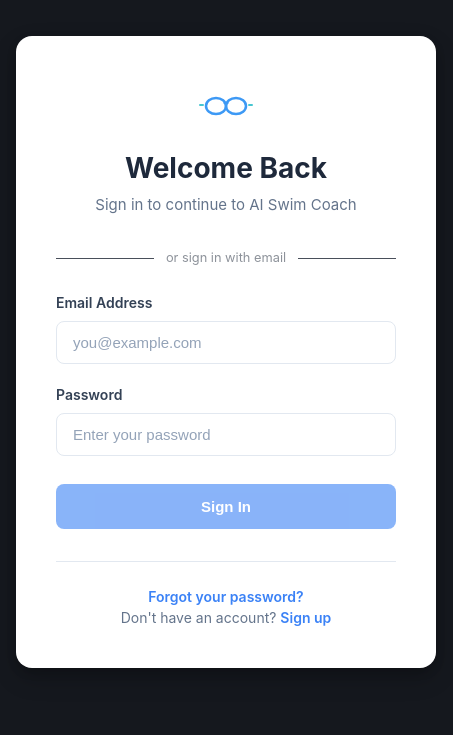
Test: Login Component › displays error message when login fails with 401
In the field labelled "Email Address": (226, 342) [56, 321, 396, 364], type "test@example.com"
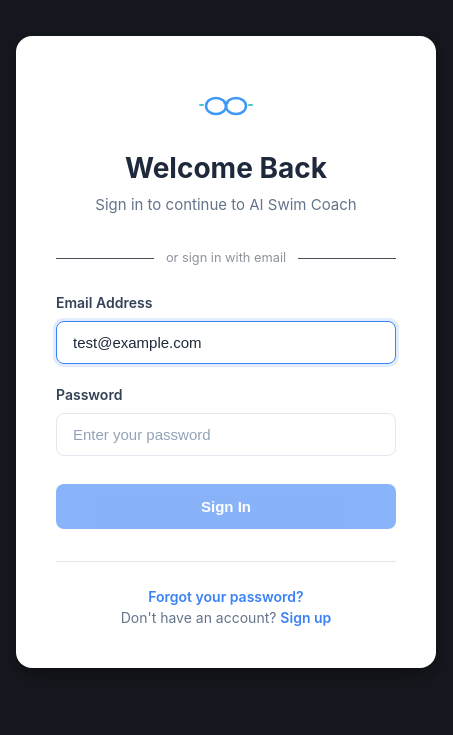
In the password field labelled "Password": (226, 434) [56, 413, 396, 456], type "wrongpassword"
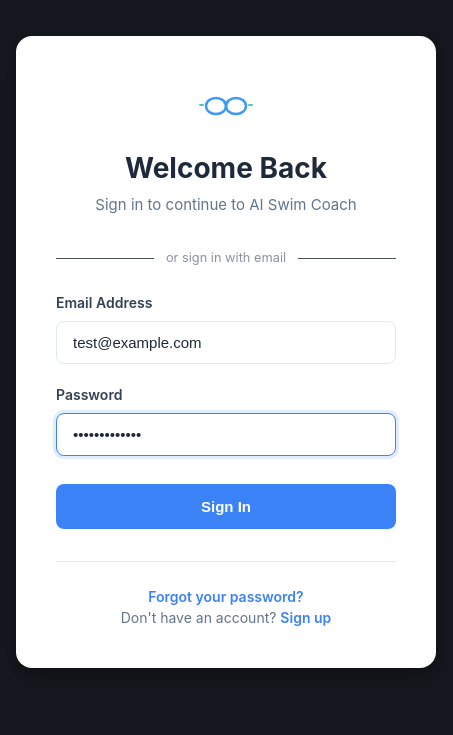
Click the button "Sign In": (226, 506) [56, 484, 396, 529]
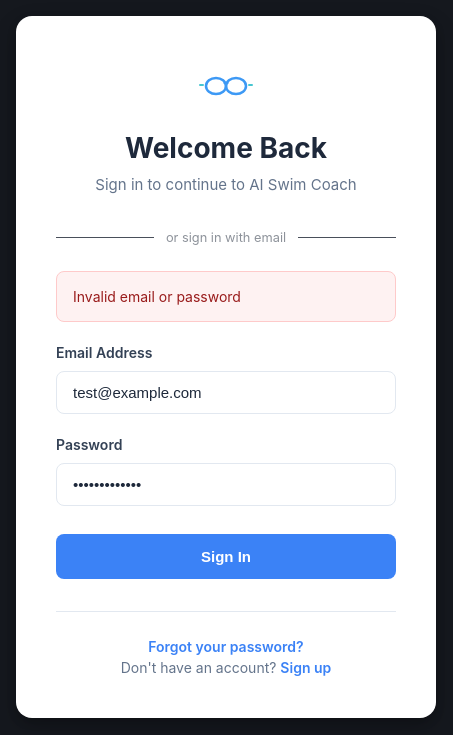
Result: the message reads "Invalid email or password" at [73, 288, 241, 305]
